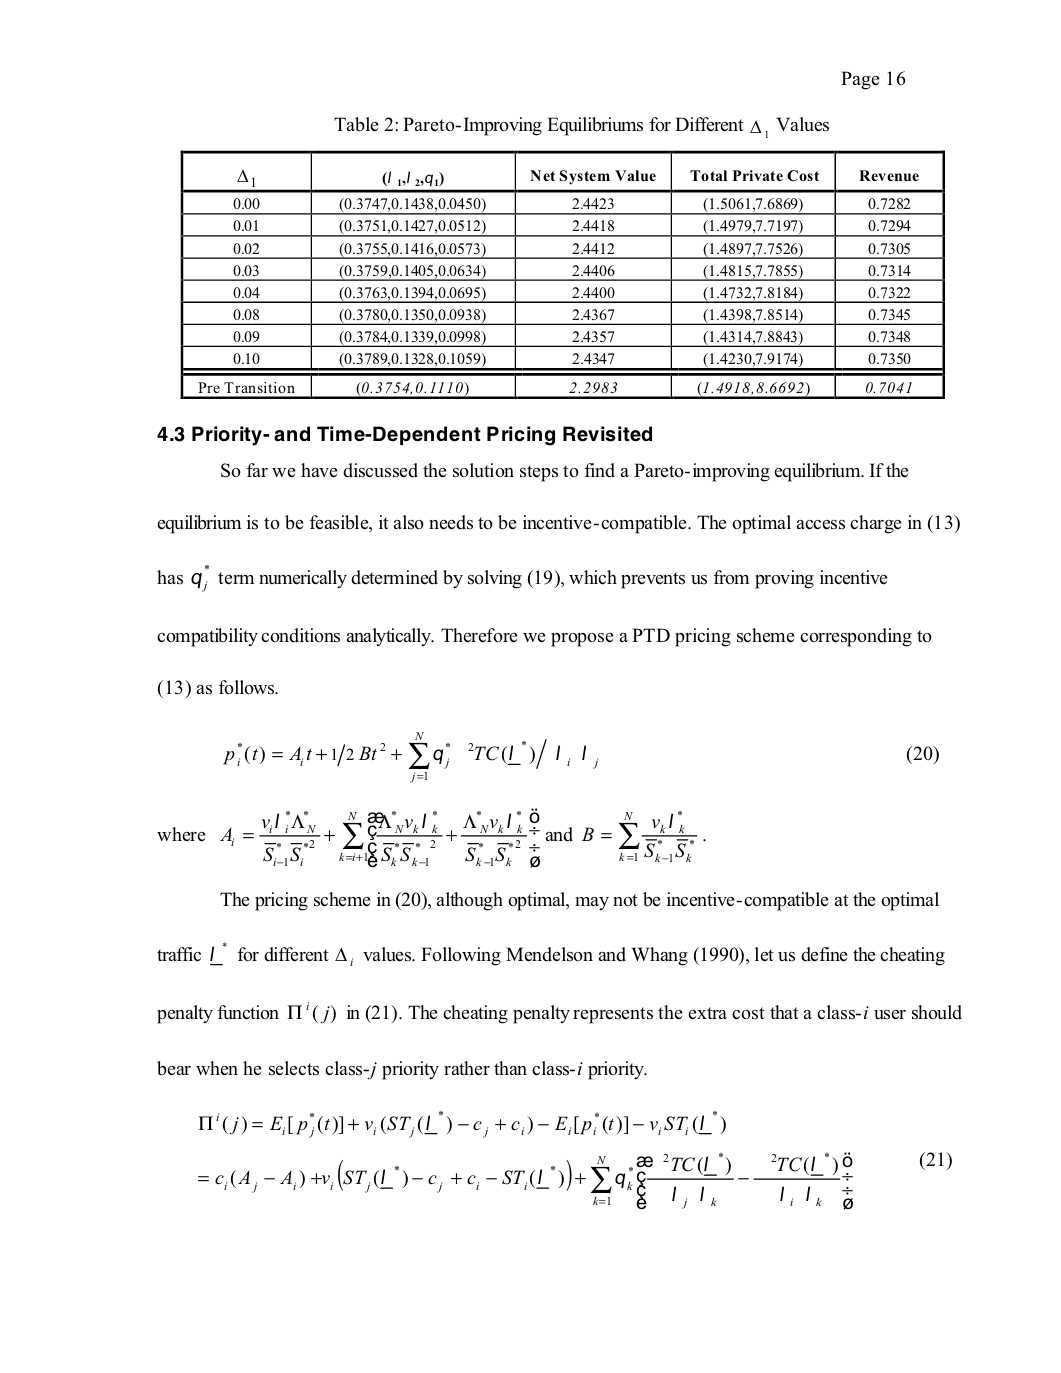Table: (181, 149, 944, 399)
formula: (198, 1151, 951, 1210), (223, 731, 938, 783), (157, 807, 705, 868), (198, 1109, 726, 1138)
